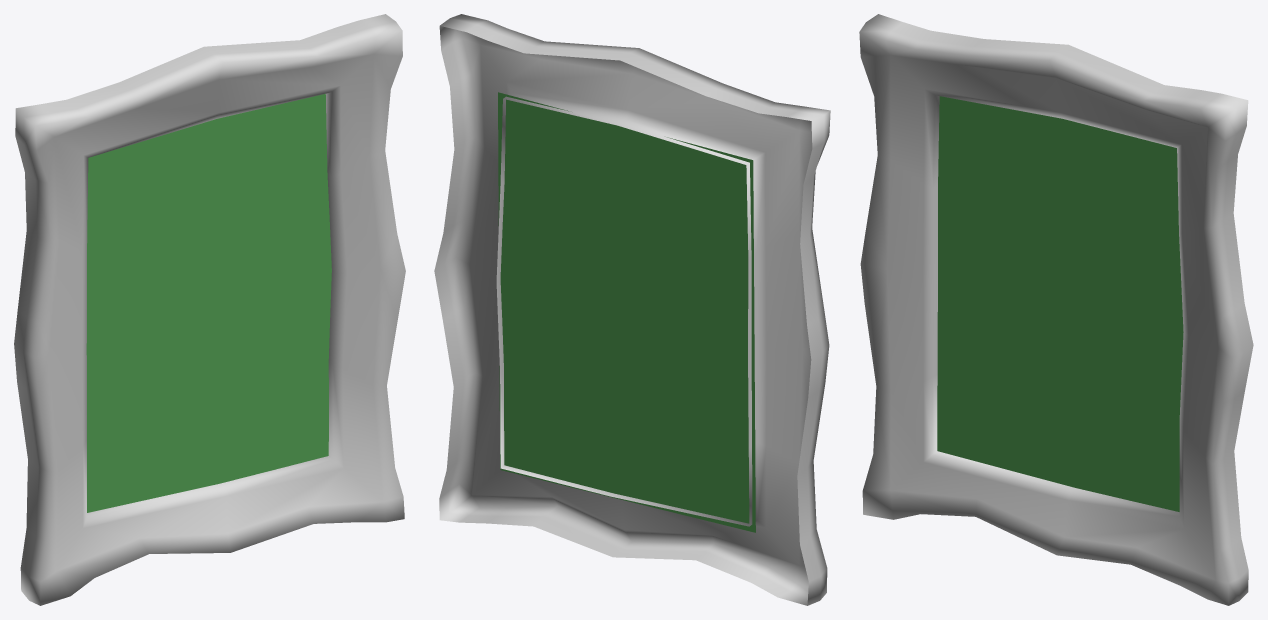
File: PictureFrame_Portal.fbx
3 renders of one model, left to right at view 1: azimuth 30°, elevation 25°; view 2: azimuth 150°, elevation 25°; view 3: azimuth 330°, elevation 25°, orthographic.
Visible parts, largest first — view 1: PictureFrame_Frame, PictureFrame_Portal; view 2: PictureFrame_Frame, PictureFrame_Portal; view 3: PictureFrame_Frame, PictureFrame_Portal.
Part boxes in pixels (bbox=[...]): PictureFrame_Frame: bbox=[14, 14, 405, 605]; PictureFrame_Portal: bbox=[86, 94, 331, 512]; PictureFrame_Frame: bbox=[434, 14, 830, 605]; PictureFrame_Portal: bbox=[498, 92, 755, 532]; PictureFrame_Frame: bbox=[859, 14, 1253, 605]; PictureFrame_Portal: bbox=[937, 96, 1183, 511].
Size of the model in its own units: 96.87 by 124 by 11.3.
